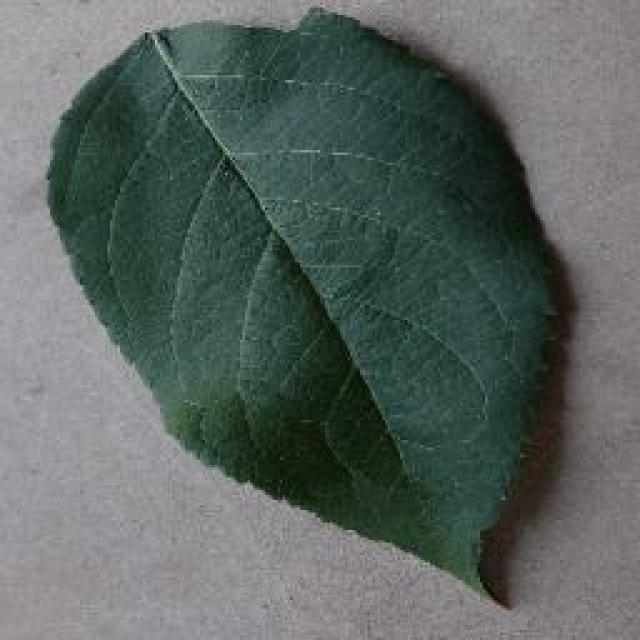apple healthy: (42, 2, 568, 608)
